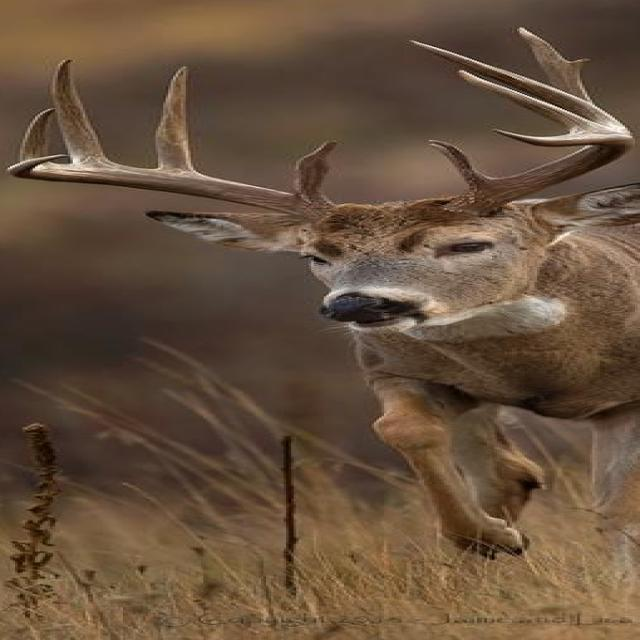L-F: (444, 127, 635, 217)
L-G1: (422, 139, 498, 191)
L-G3: (402, 38, 631, 133)
L-G4: (454, 69, 618, 135)
R-F: (2, 154, 337, 223)
R-G1: (293, 138, 342, 200)
R-G2: (154, 64, 206, 175)
R-G3: (48, 57, 127, 166)
